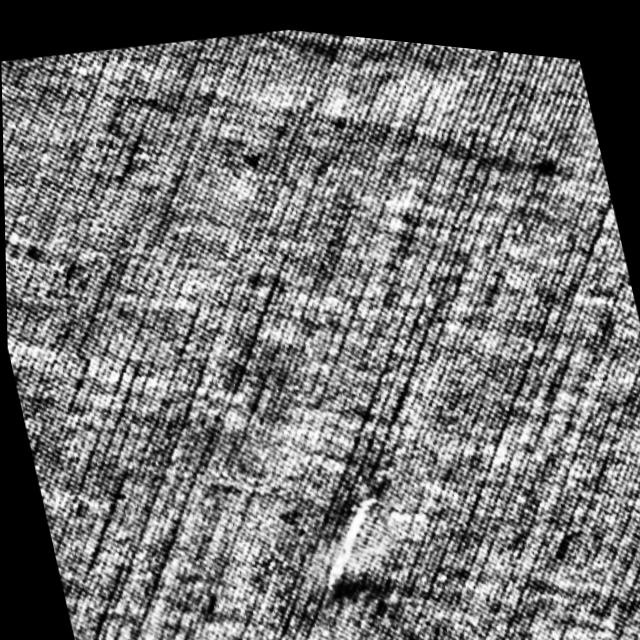Stitch: (307, 480, 404, 606)
